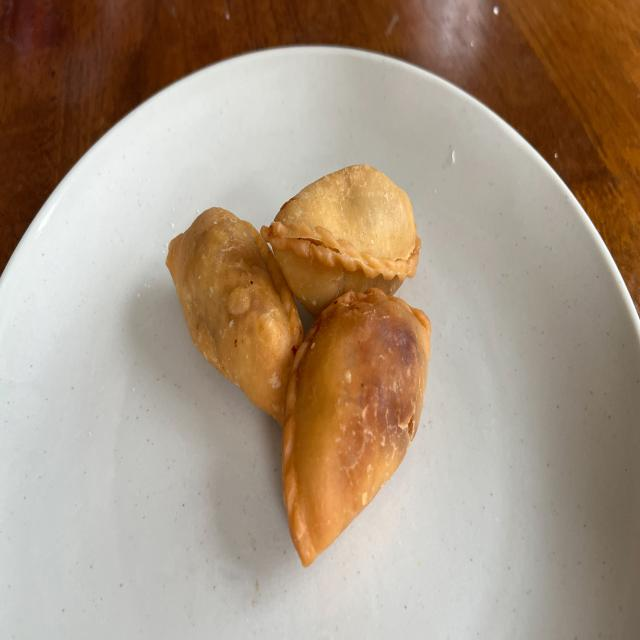karipap: (282, 289, 431, 567), (166, 207, 302, 427), (261, 164, 421, 318)
